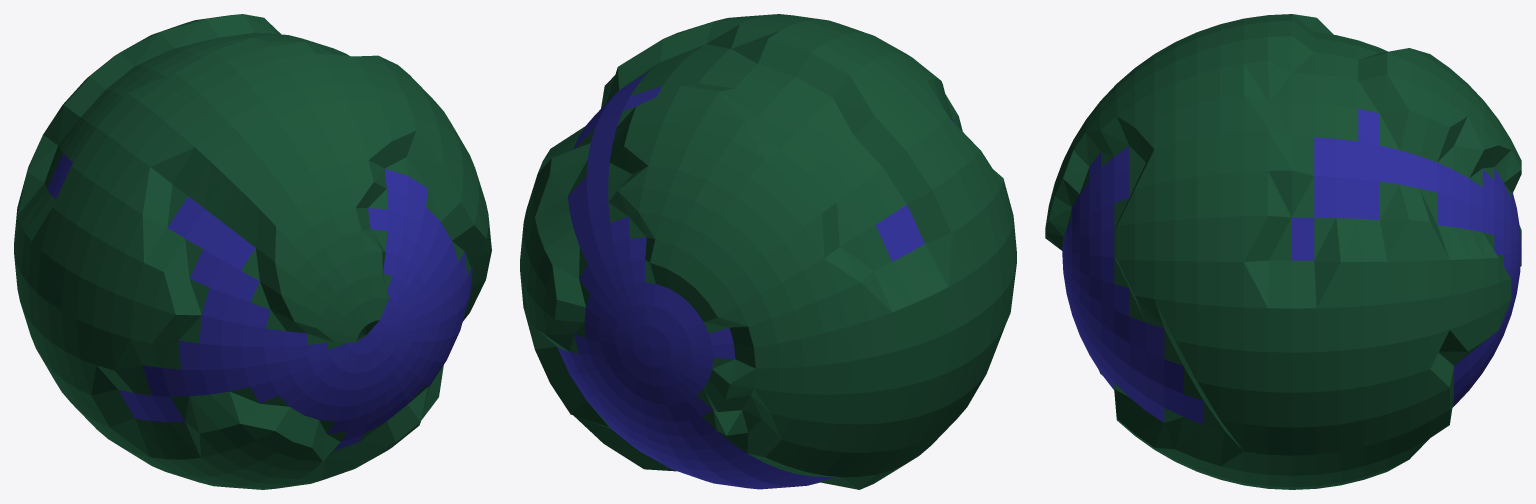
File: mass.obj
3 renders of one model, left to right at view 1: azimuth 30°, elevation 25°; view 2: azimuth 150°, elevation 25°; view 3: azimuth 270°, elevation 25°, orthographic. The views are drawn at different scales.
Visible parts, largest first — view 1: Sphere_Sphere_Material.001, Sphere_Sphere_Material.002; view 2: Sphere_Sphere_Material.001, Sphere_Sphere_Material.002; view 3: Sphere_Sphere_Material.001, Sphere_Sphere_Material.002.
Boxes of the visible parts, x1,y1,x2,y2 form: Sphere_Sphere_Material.001: [14, 14, 491, 489]; Sphere_Sphere_Material.002: [47, 154, 472, 450]; Sphere_Sphere_Material.001: [520, 14, 1016, 489]; Sphere_Sphere_Material.002: [557, 72, 955, 489]; Sphere_Sphere_Material.001: [1045, 14, 1521, 489]; Sphere_Sphere_Material.002: [1062, 108, 1521, 424].
Bounding box in the file's own units: 0.9103 × 0.9103 × 0.9103.
